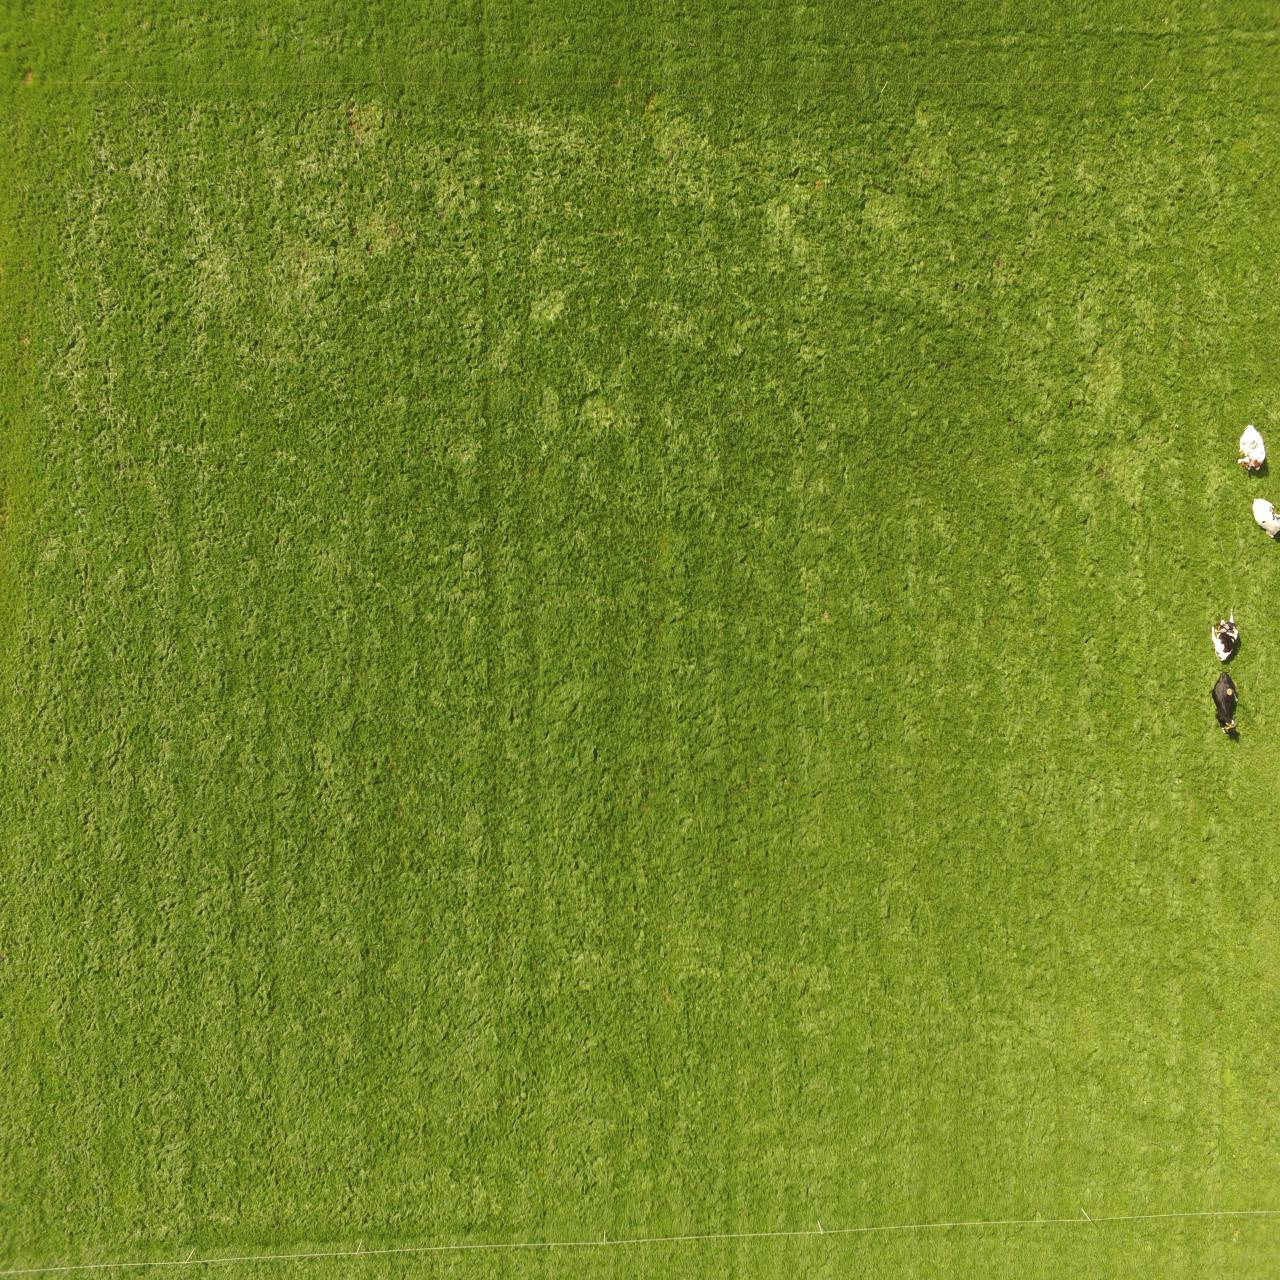cow: (1211, 670, 1239, 737), (1235, 423, 1266, 478), (1211, 605, 1239, 663), (1251, 493, 1280, 539)
